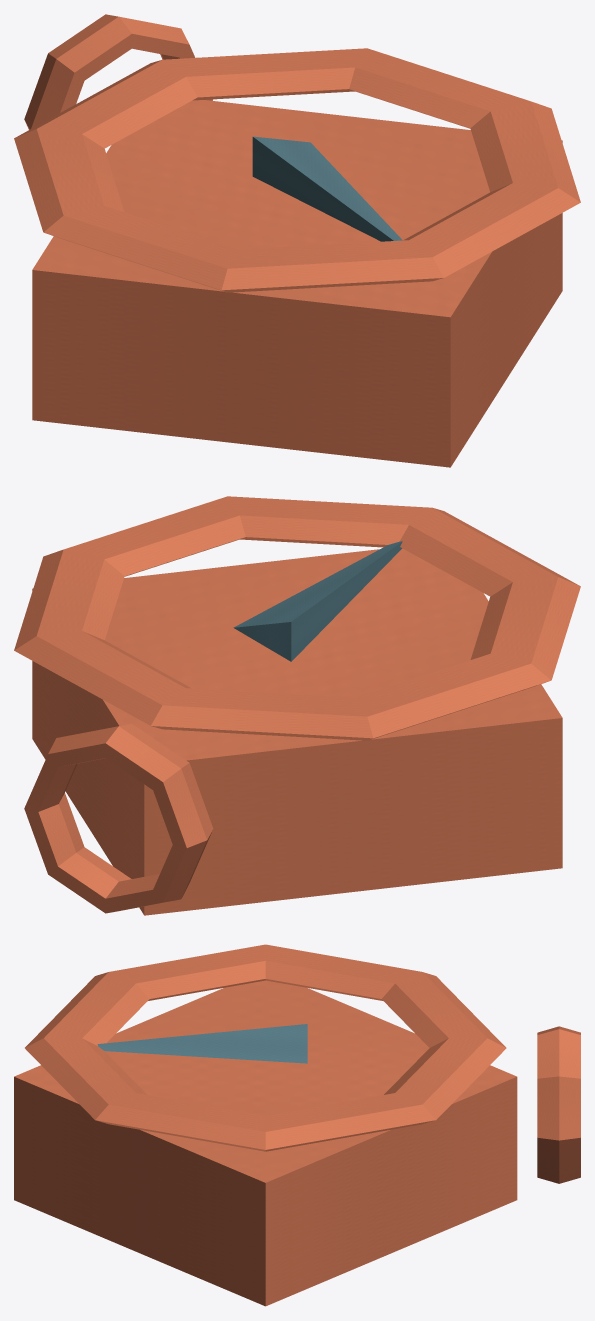
Rendered from atlas100-s043-a05.lod2.glb.
3 views of the same model, one above another, from view 1: azimuth 30°, elevation 25°; view 2: azimuth 150°, elevation 25°; view 3: azimuth 270°, elevation 25° (orthographic). The views are drawn at different scales.
Parts seen in each view (by area): view 1: atlas100-s043-a05:part-000, atlas100-s043-a05:part-003, atlas100-s043-a05:part-004, atlas100-s043-a05:part-002; view 2: atlas100-s043-a05:part-000, atlas100-s043-a05:part-003, atlas100-s043-a05:part-004, atlas100-s043-a05:part-002; view 3: atlas100-s043-a05:part-000, atlas100-s043-a05:part-003, atlas100-s043-a05:part-004, atlas100-s043-a05:part-002.
Boxes of the visible parts, x1,y1,x2,y2 form: atlas100-s043-a05:part-000: (32, 100, 562, 467); atlas100-s043-a05:part-003: (14, 48, 580, 292); atlas100-s043-a05:part-004: (24, 14, 212, 129); atlas100-s043-a05:part-002: (252, 136, 402, 241); atlas100-s043-a05:part-000: (32, 548, 562, 915); atlas100-s043-a05:part-003: (14, 496, 580, 740); atlas100-s043-a05:part-004: (24, 724, 213, 913); atlas100-s043-a05:part-002: (233, 541, 402, 661); atlas100-s043-a05:part-000: (14, 980, 517, 1306); atlas100-s043-a05:part-003: (25, 944, 506, 1151); atlas100-s043-a05:part-004: (537, 1026, 580, 1183); atlas100-s043-a05:part-002: (97, 1024, 307, 1063).
Size of the model in its own units: 0.5242 by 0.1966 by 0.5905.
Materials: 2 (2 with a texture image).
